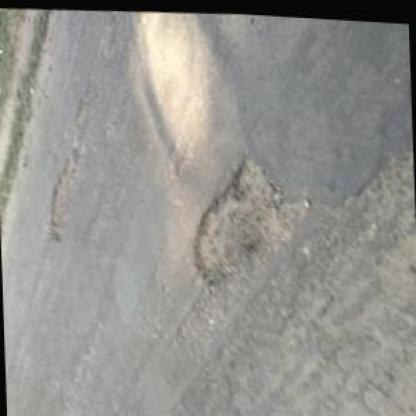pothole: (186, 143, 301, 290), (46, 151, 80, 243)
